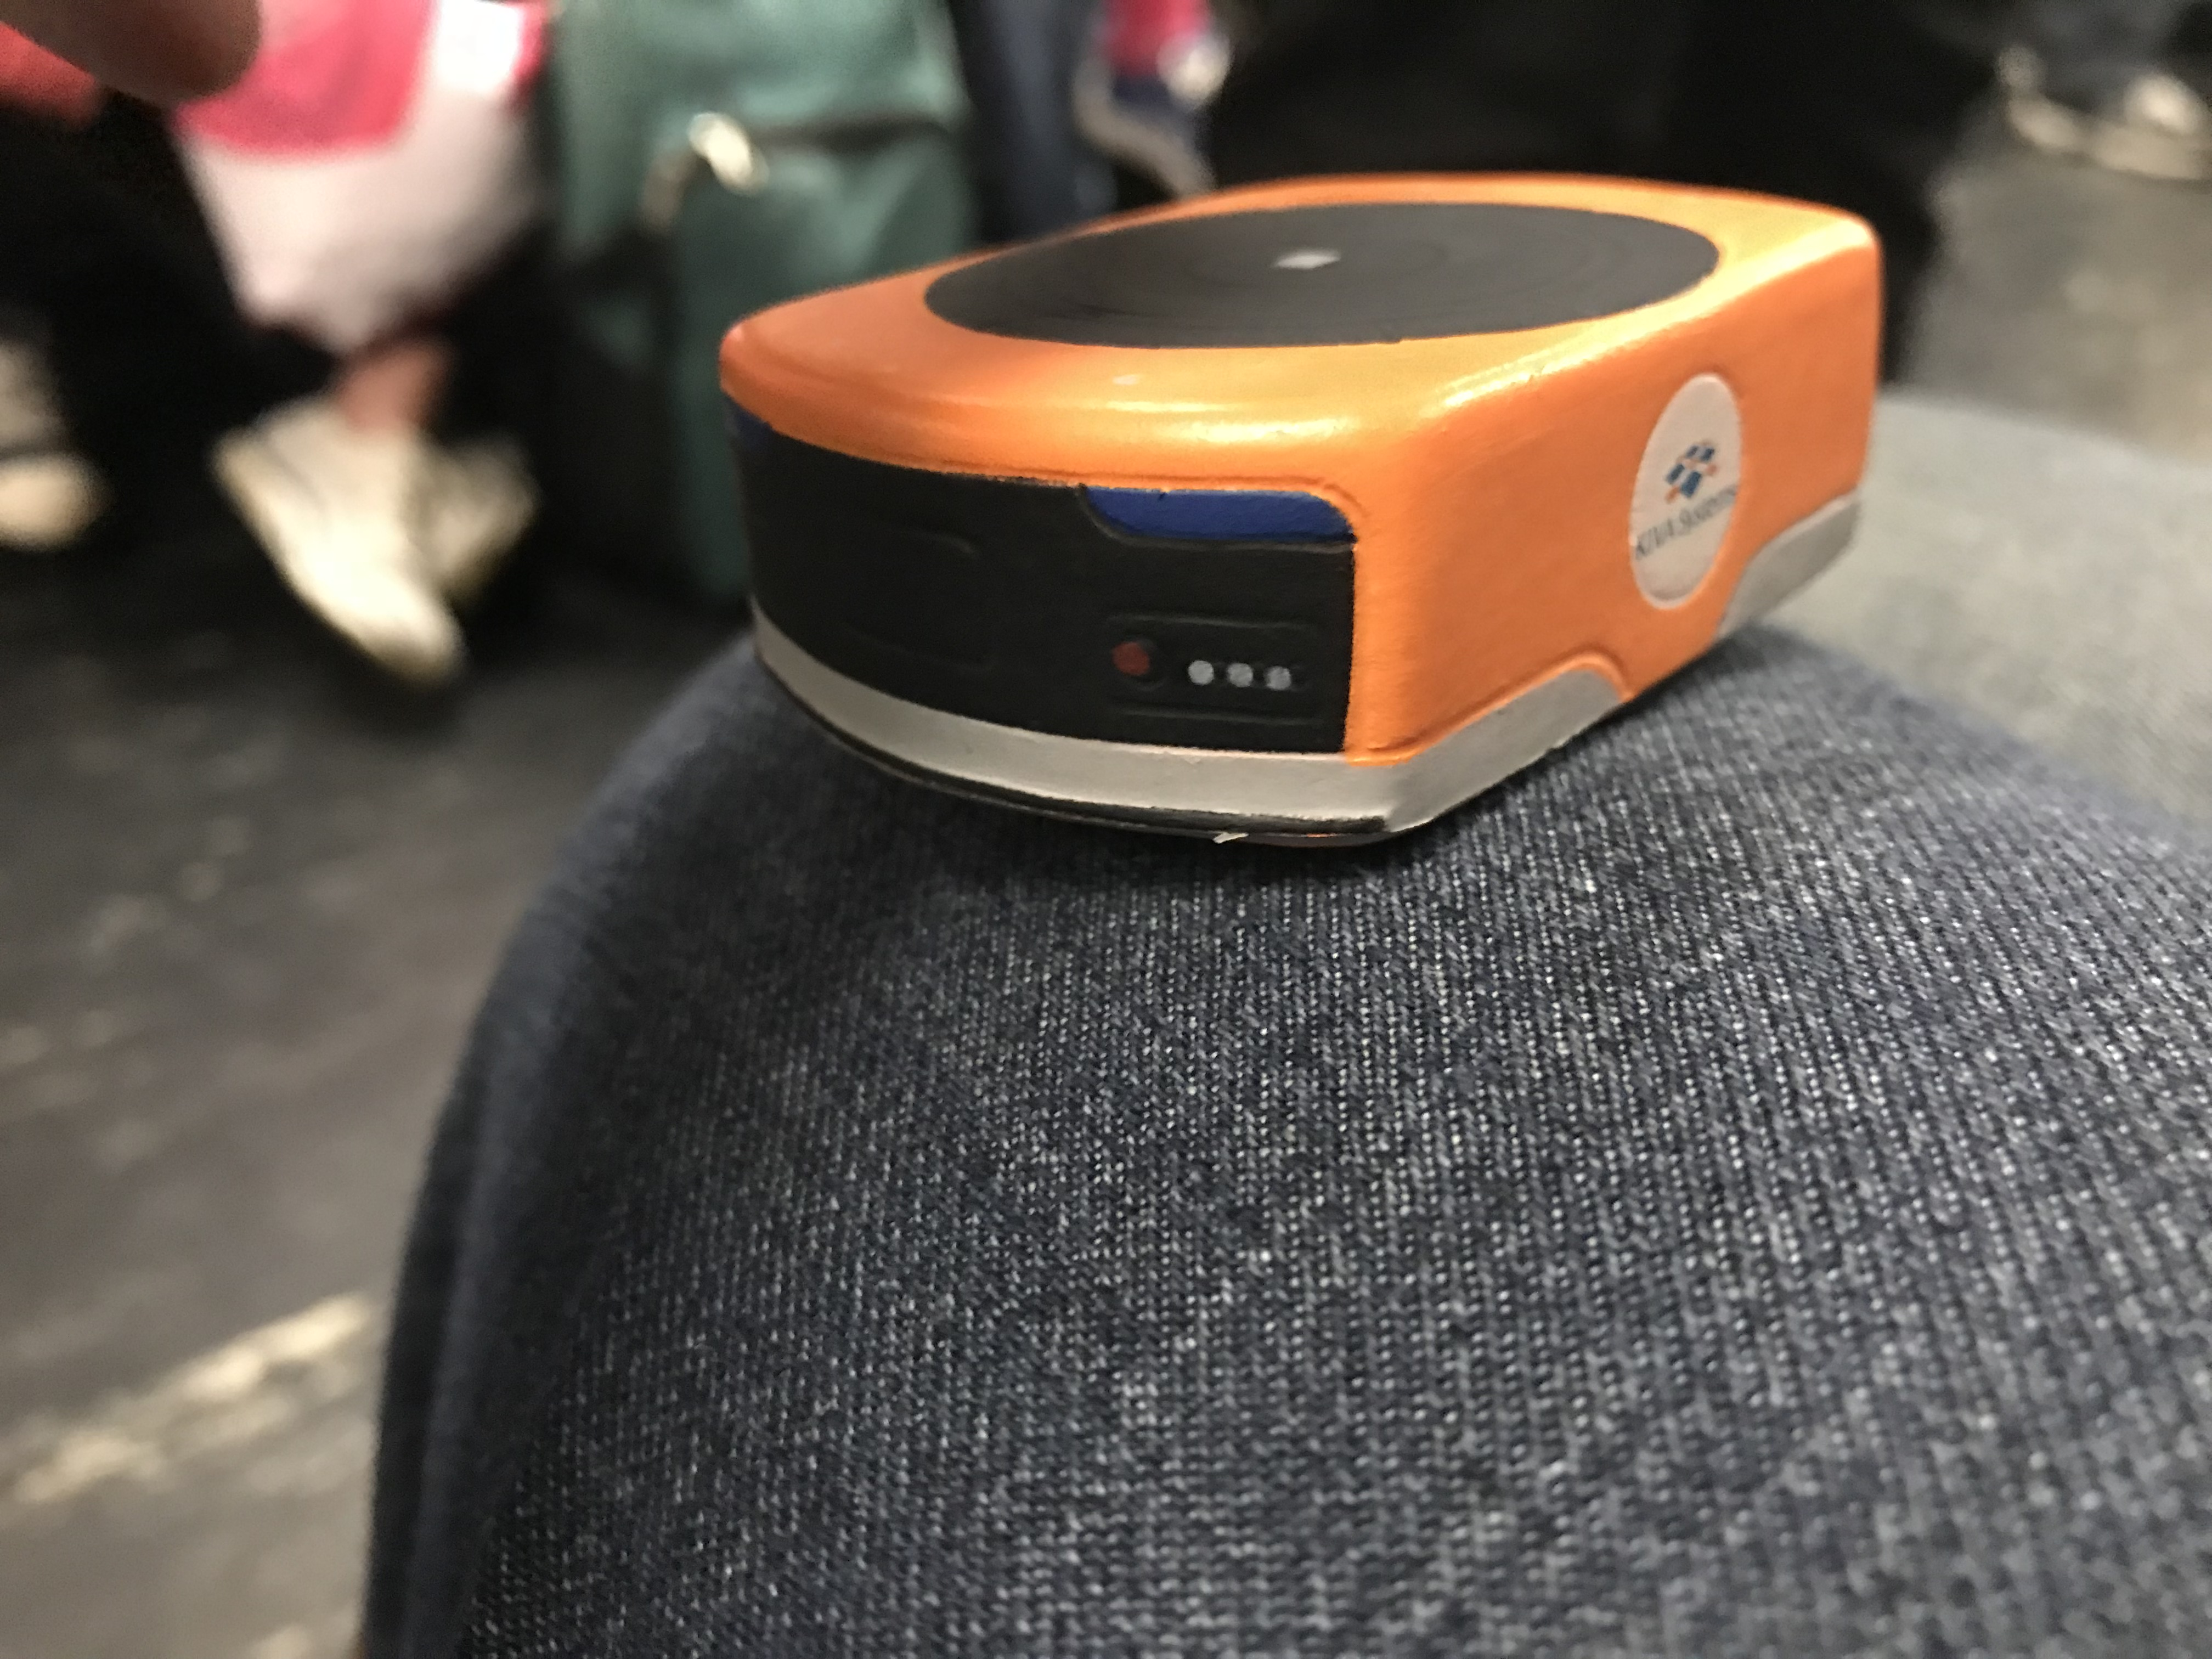amazon_bot: (695, 77, 1905, 889)
